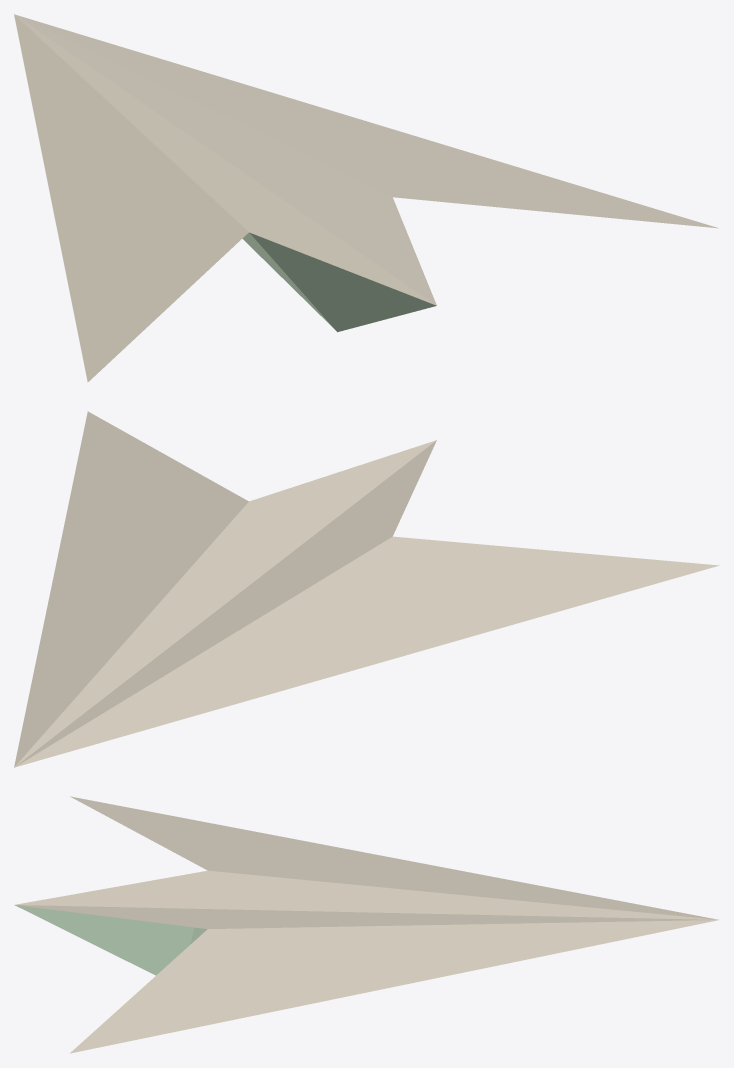
Rendered from paper_plane.glb.
The picture shows the model from 3 angles, top to bottom: view 1: azimuth 30°, elevation 25°; view 2: azimuth 150°, elevation 25°; view 3: azimuth 270°, elevation 25°; orthographic projection. The views are drawn at different scales.
Parts seen in each view (by area): view 1: wing_left, wing_right, fold_left; view 2: wing_left, wing_right; view 3: wing_right, wing_left, fold_left.
Boxes of the visible parts, bbox=[...] form: wing_left: bbox=[14, 14, 436, 382]; wing_right: bbox=[14, 14, 718, 305]; fold_left: bbox=[242, 232, 436, 332]; wing_left: bbox=[14, 440, 719, 767]; wing_right: bbox=[14, 411, 436, 767]; wing_right: bbox=[16, 905, 718, 1053]; wing_left: bbox=[15, 796, 718, 919]; fold_left: bbox=[14, 905, 207, 975].
Size of the model in its own units: 0.22 by 0.035 by 0.255.
